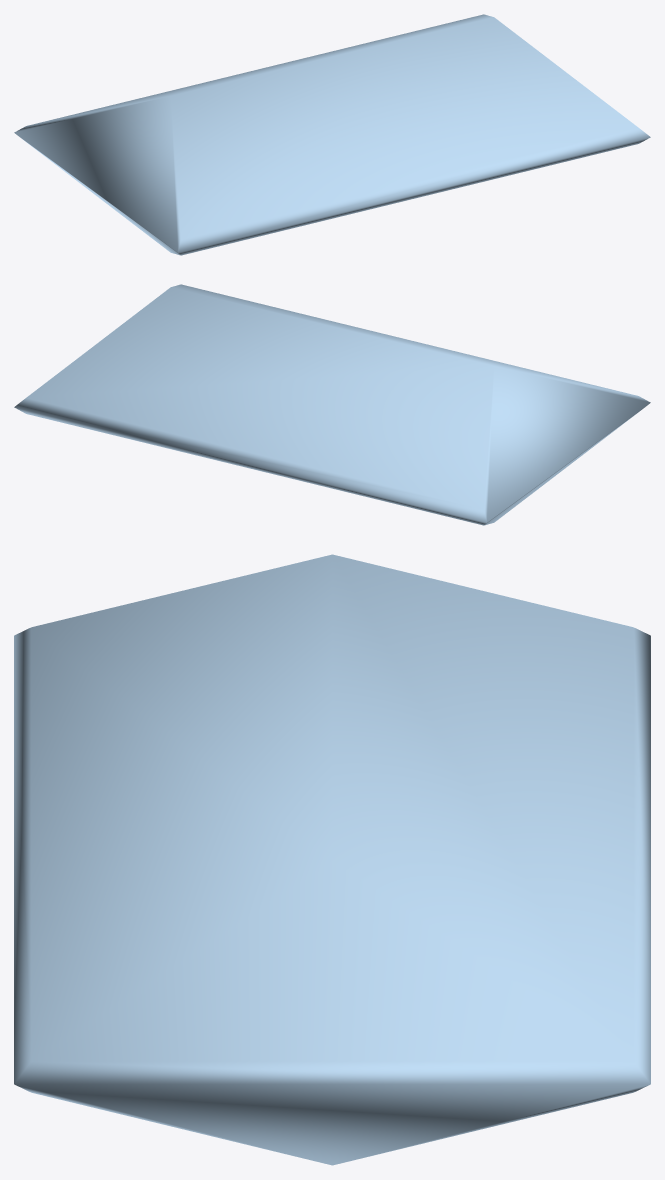
File: aragonite.glb
3 renders of one model, top to bottom at view 1: azimuth 30°, elevation 25°; view 2: azimuth 150°, elevation 25°; view 3: azimuth 270°, elevation 25°, orthographic. The views are drawn at different scales.
Visible parts, largest first — view 1: aragonite; view 2: aragonite; view 3: aragonite.
Part boxes in pixels (<box>): aragonite: <box>14,14,650,255</box>; aragonite: <box>14,284,650,525</box>; aragonite: <box>14,554,650,1165</box>.
Size of the model in its own units: 2.83 by 0.8944 by 1.7.
